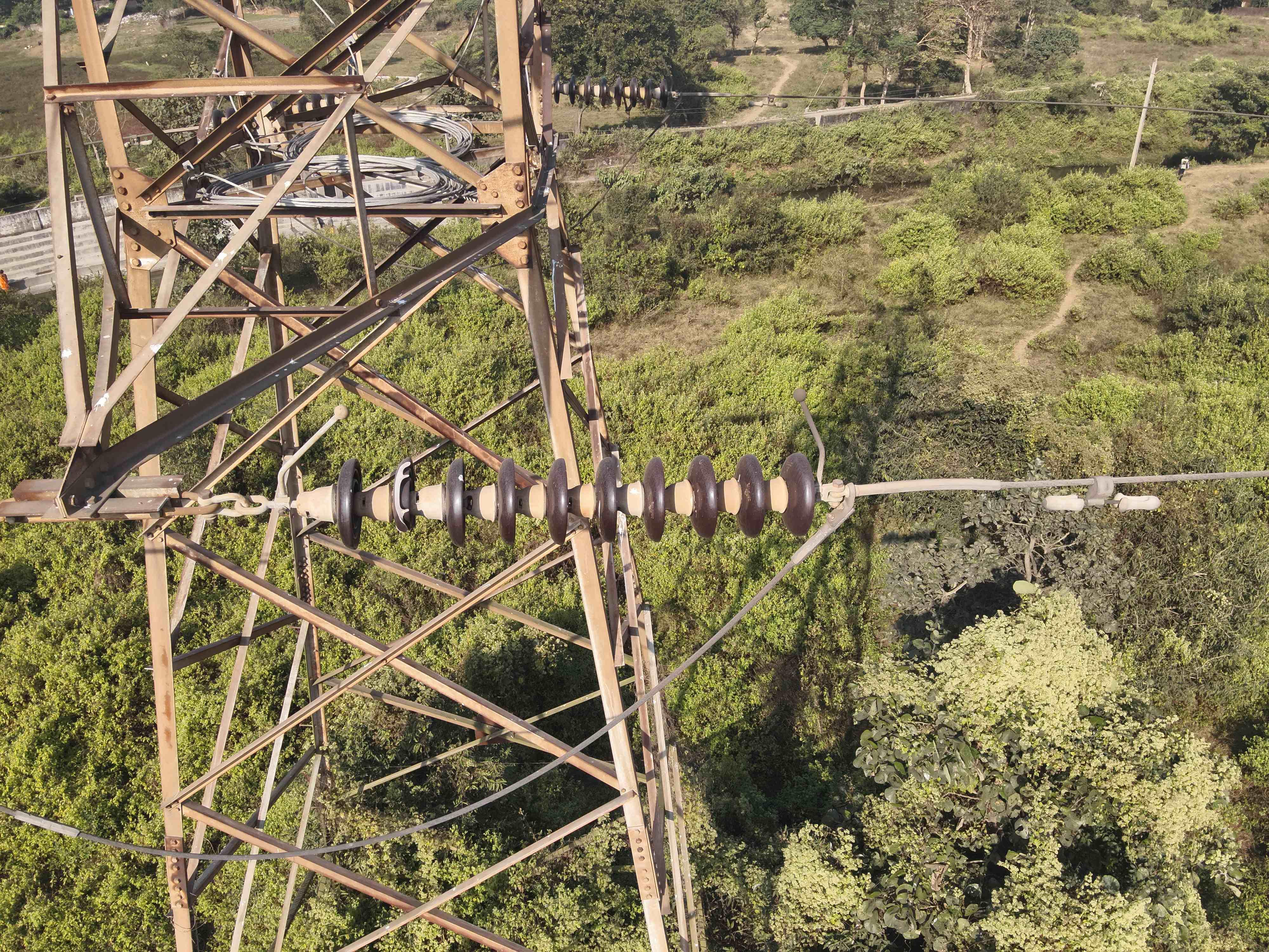broken_insulator: (380, 450, 427, 534)
